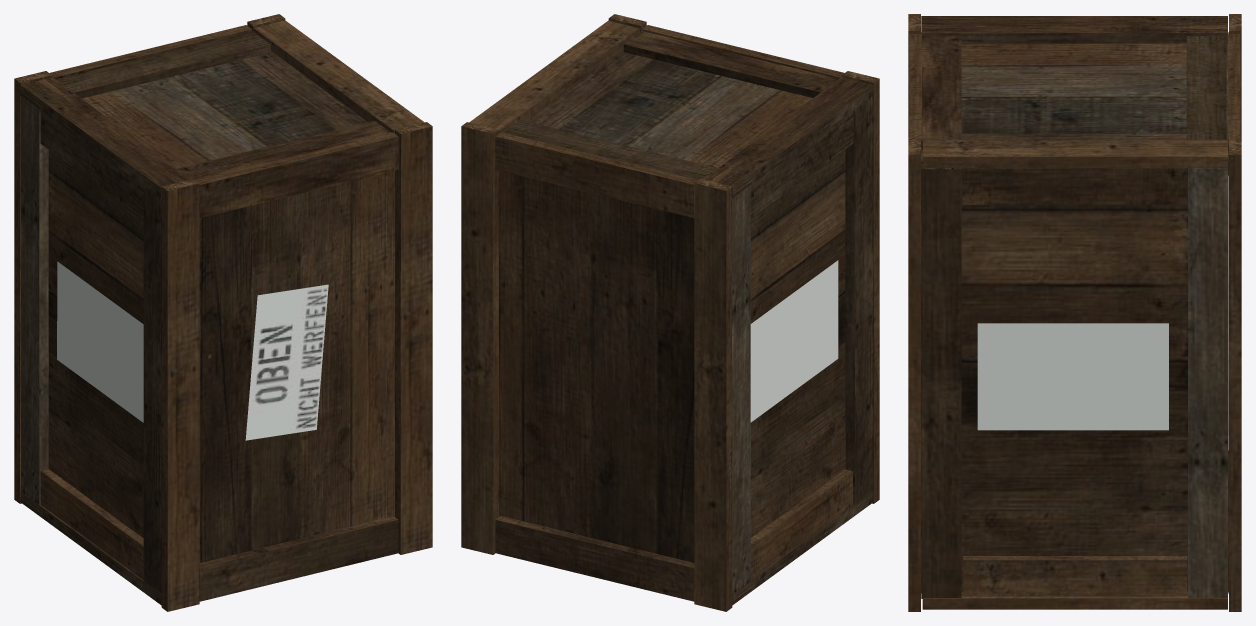
File: prop_crate_wehrmacht6a_wet.glb
The picture shows the model from 3 angles, left to right: view 1: azimuth 30°, elevation 25°; view 2: azimuth 150°, elevation 25°; view 3: azimuth 270°, elevation 25°; orthographic projection. The views are drawn at different scales.
Bounding box in the file's own units: 23.76 × 36.07 × 23.82.
Materials: 2 (2 with a texture image).
